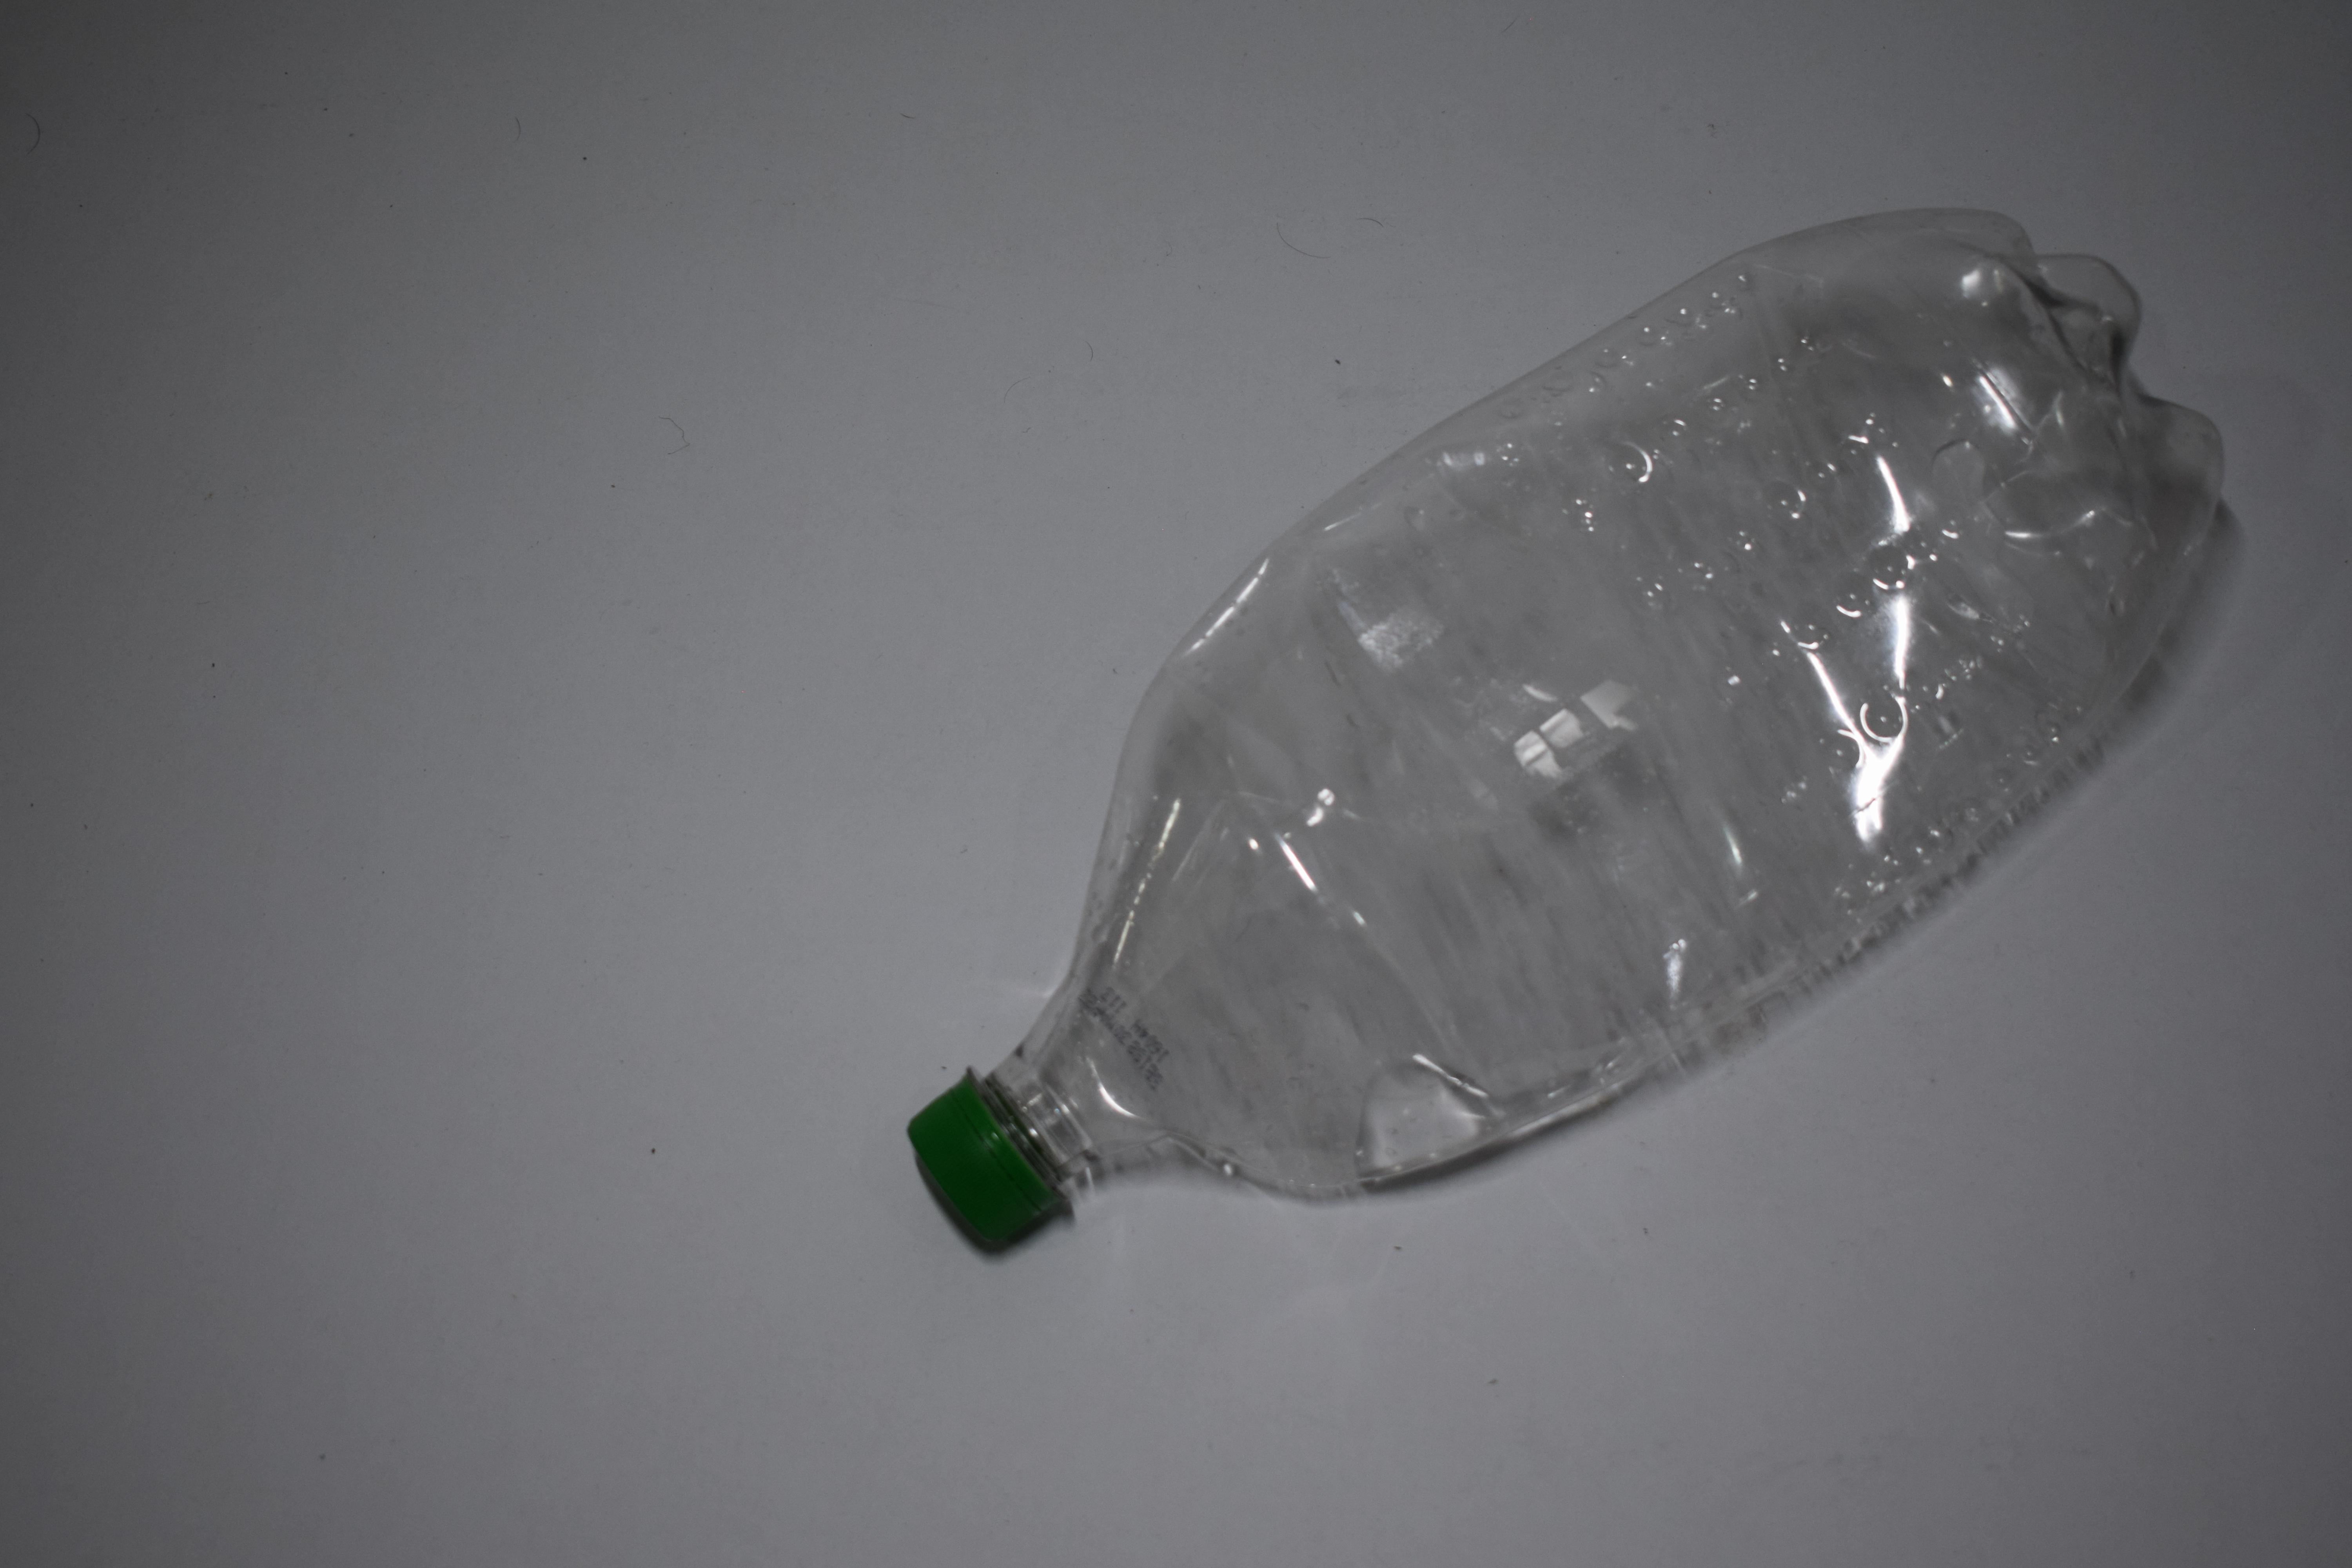bottle: (1498, 189, 1640, 1255)
